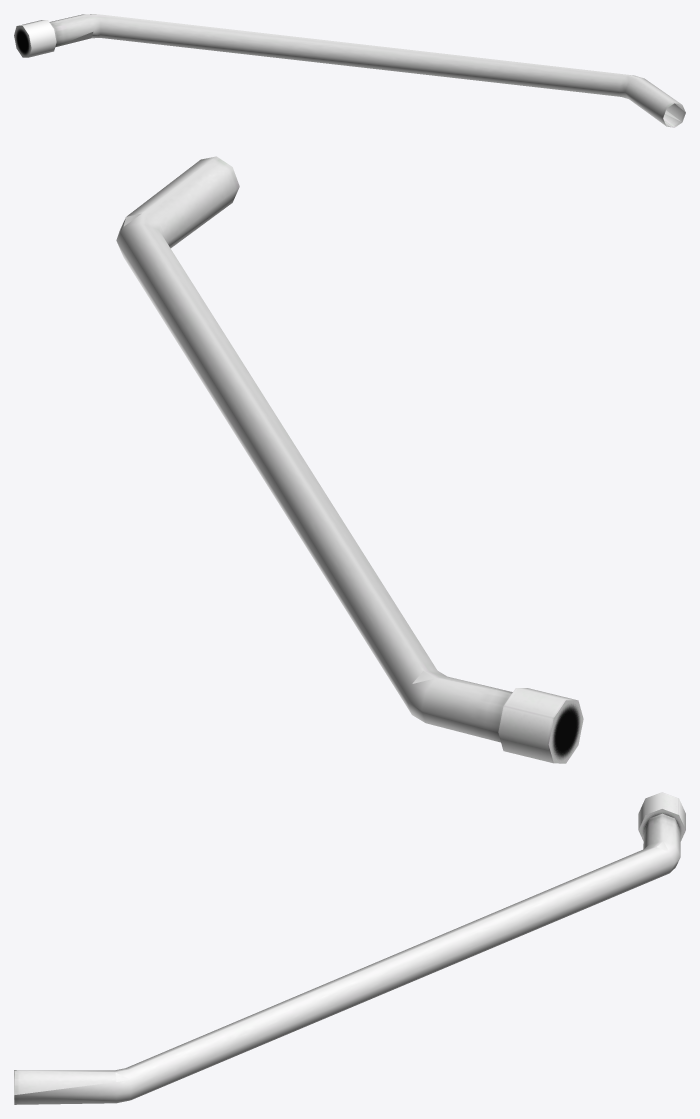
The model's file is Electric_Pipe_corner_128.FBX.
3 renders of one model, top to bottom at view 1: azimuth 30°, elevation 25°; view 2: azimuth 150°, elevation 25°; view 3: azimuth 270°, elevation 25°, orthographic. The views are drawn at different scales.
Visible parts, largest first — view 1: Electric_Pipe_corner_128; view 2: Electric_Pipe_corner_128; view 3: Electric_Pipe_corner_128.
Boxes of the visible parts, x1=… form: Electric_Pipe_corner_128: x1=14, y1=14, x2=685, y2=127; Electric_Pipe_corner_128: x1=116, y1=156, x2=583, y2=763; Electric_Pipe_corner_128: x1=14, y1=792, x2=685, y2=1104.
Size of the model in its own units: 98.69 by 7.04 by 99.54.
Materials: 1 (1 with a texture image).
